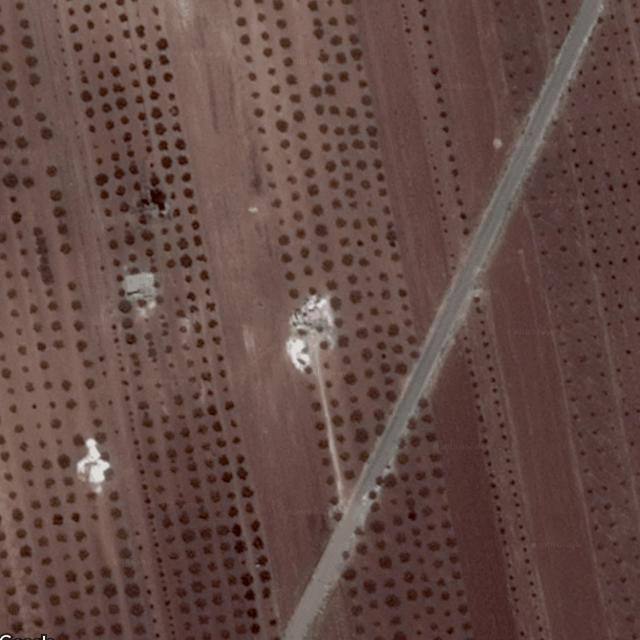damaged_building: (286, 299, 332, 371)
